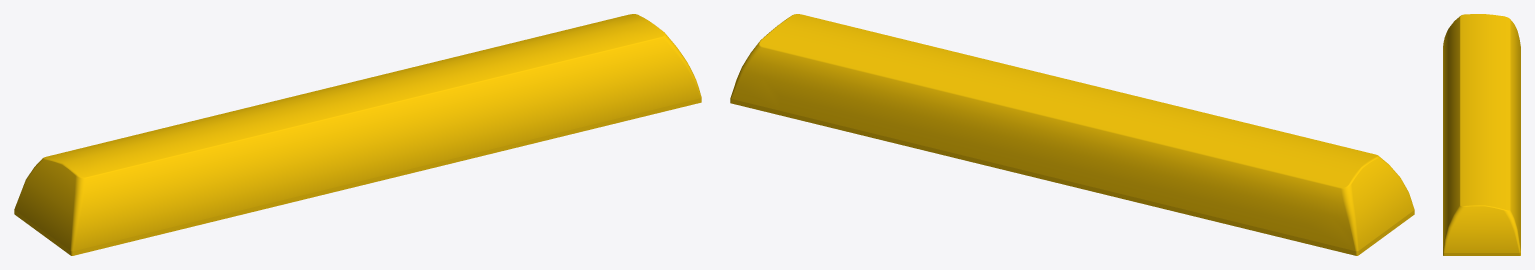
Rendered from KAT_6u_r5.glb.
The picture shows the model from 3 angles, left to right: view 1: azimuth 30°, elevation 25°; view 2: azimuth 150°, elevation 25°; view 3: azimuth 270°, elevation 25°; orthographic projection. The views are drawn at different scales.
Visible parts, largest first — view 1: Object.086; view 2: Object.086; view 3: Object.086.
Part boxes in pixels (x1,y1,x2,y2): Object.086: [14, 14, 701, 255]; Object.086: [730, 14, 1414, 255]; Object.086: [1443, 14, 1520, 255].
Bounding box in the file's own units: 114 × 11.17 × 18.2.
